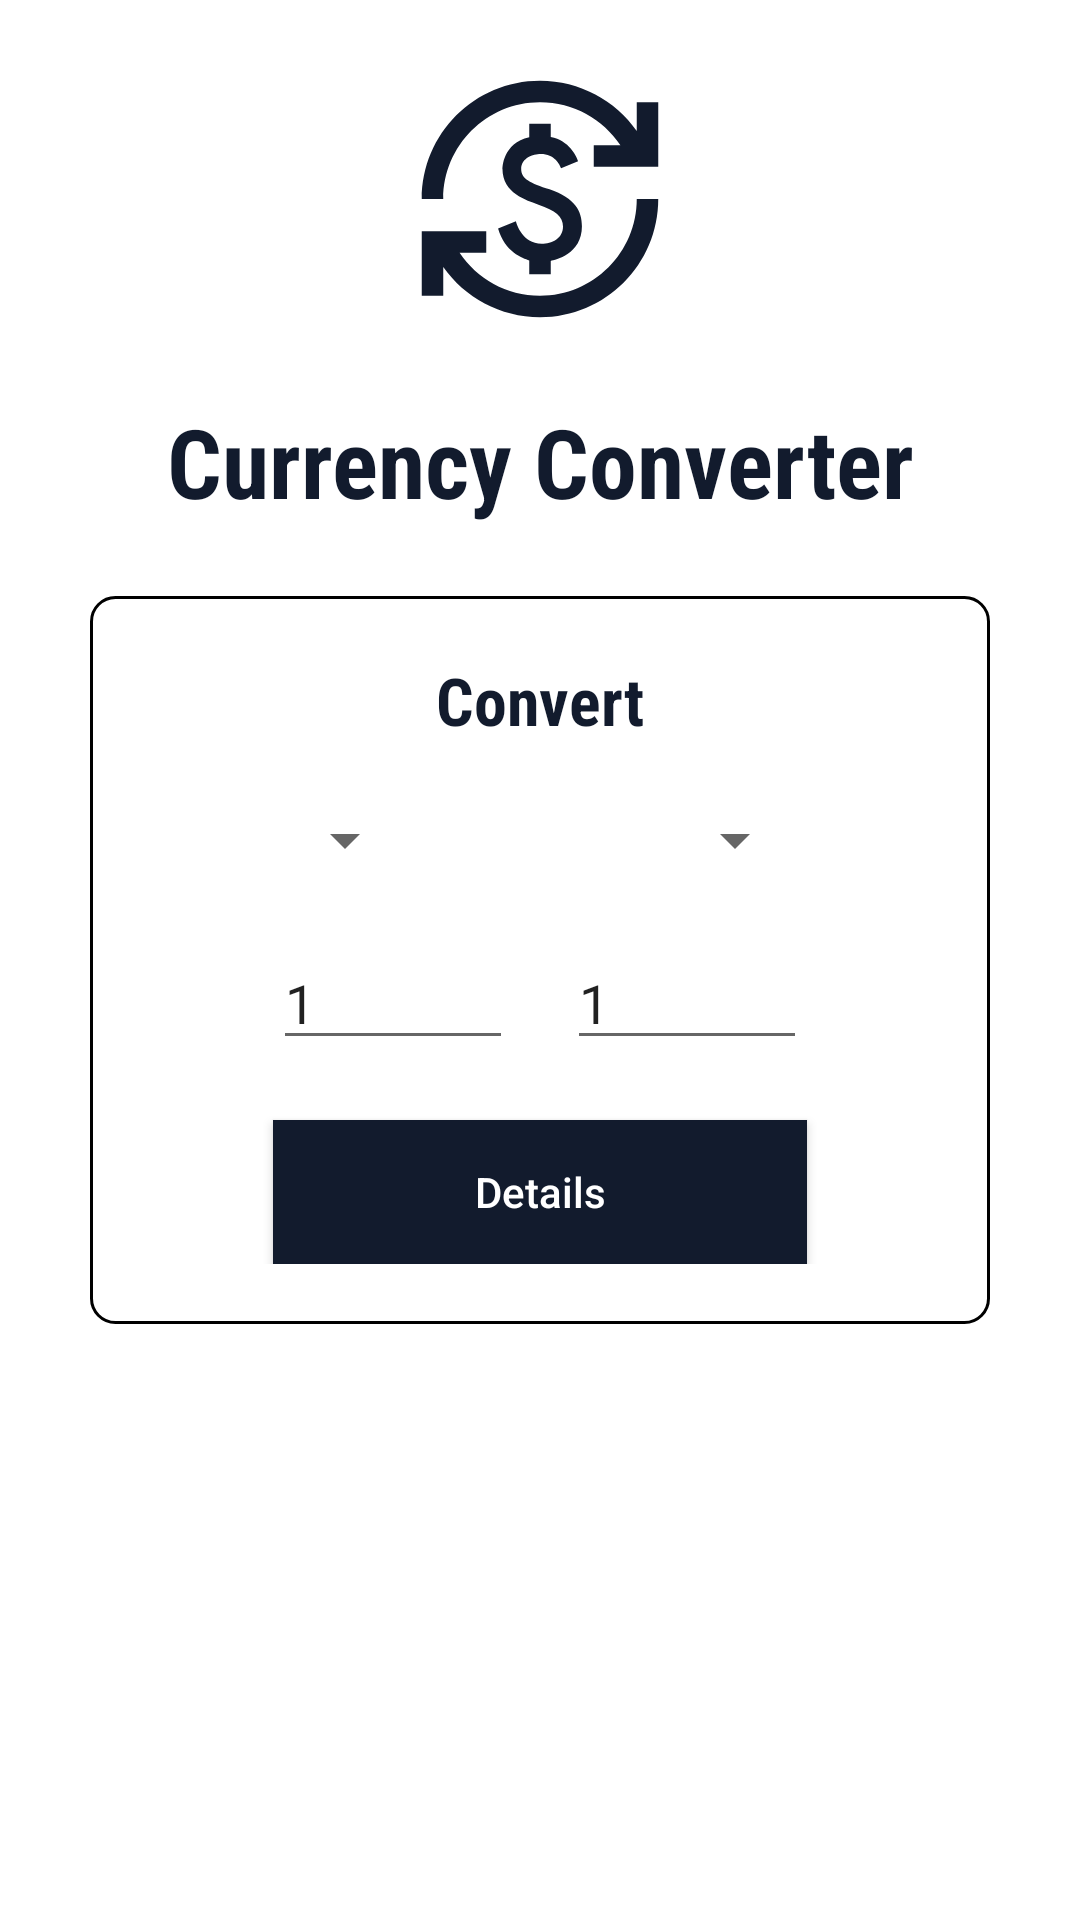

Icon bounding boxes for this 1080x1920 phone screenshot, format (x1, y1, x2, y2):
currency exchange: (421, 80, 659, 318)
